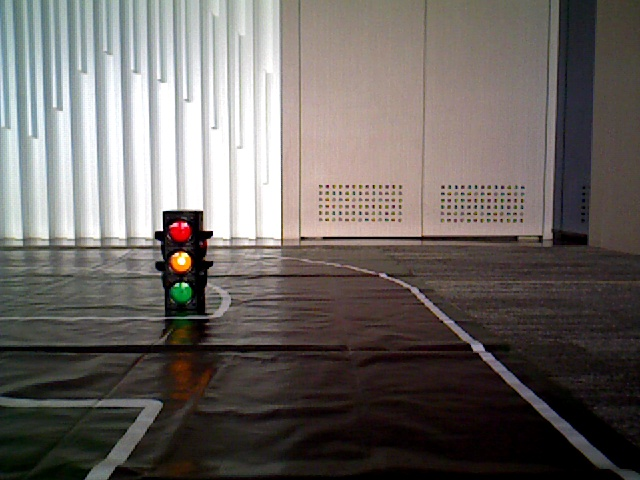yellow: (166, 216, 197, 305)
